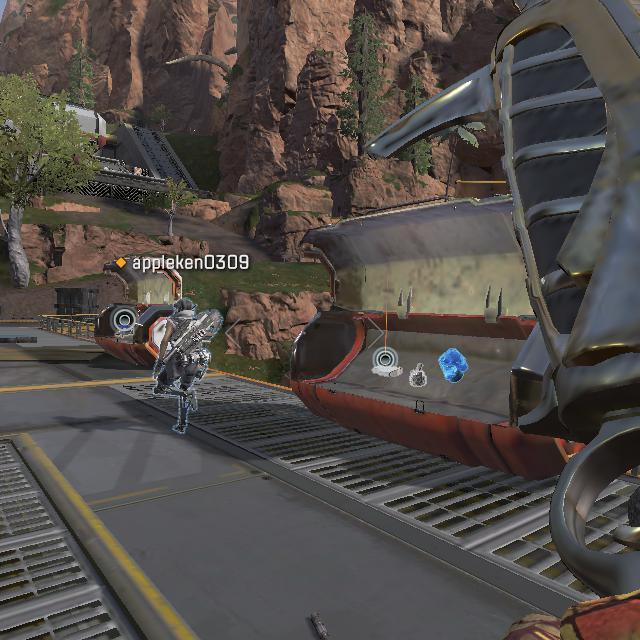avatar: (150, 295, 212, 436)
